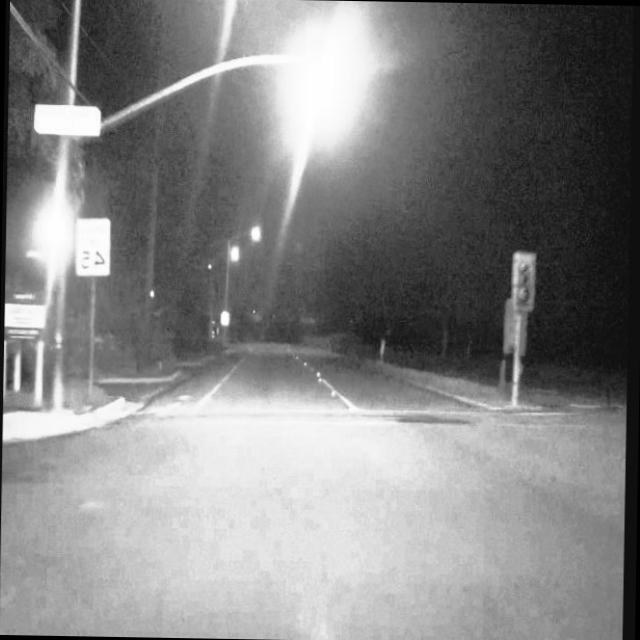Light: (310, 33, 336, 106), (510, 252, 533, 310)
Sign: (33, 104, 100, 135), (77, 216, 110, 275)
